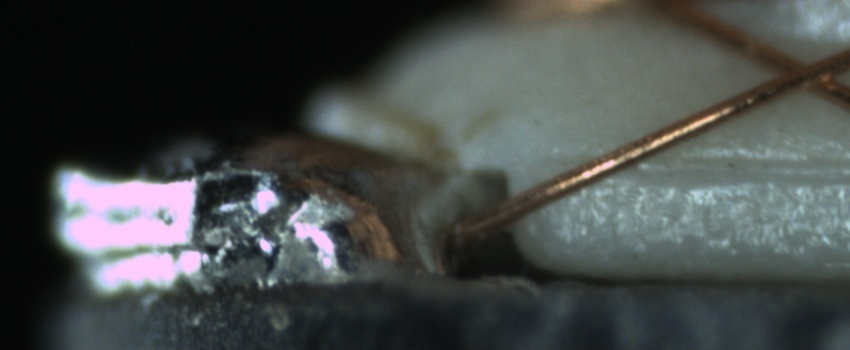CL: (756, 42, 845, 101)
DL: (572, 134, 844, 200)
